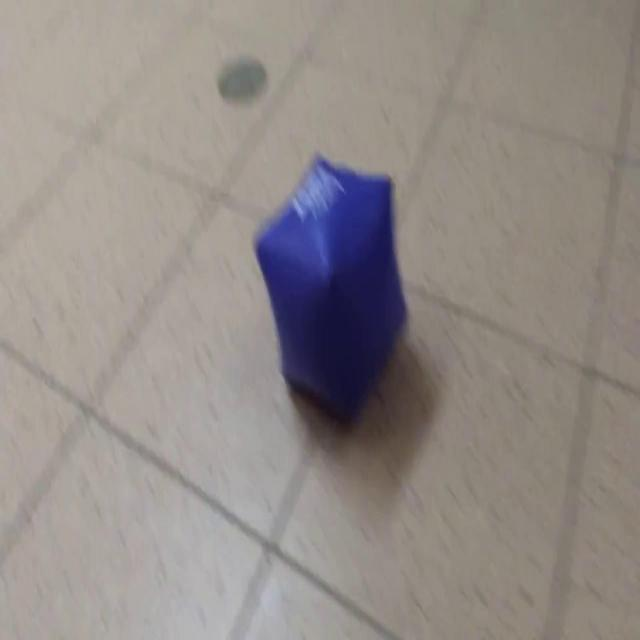frc_cube: (253, 151, 409, 421)
